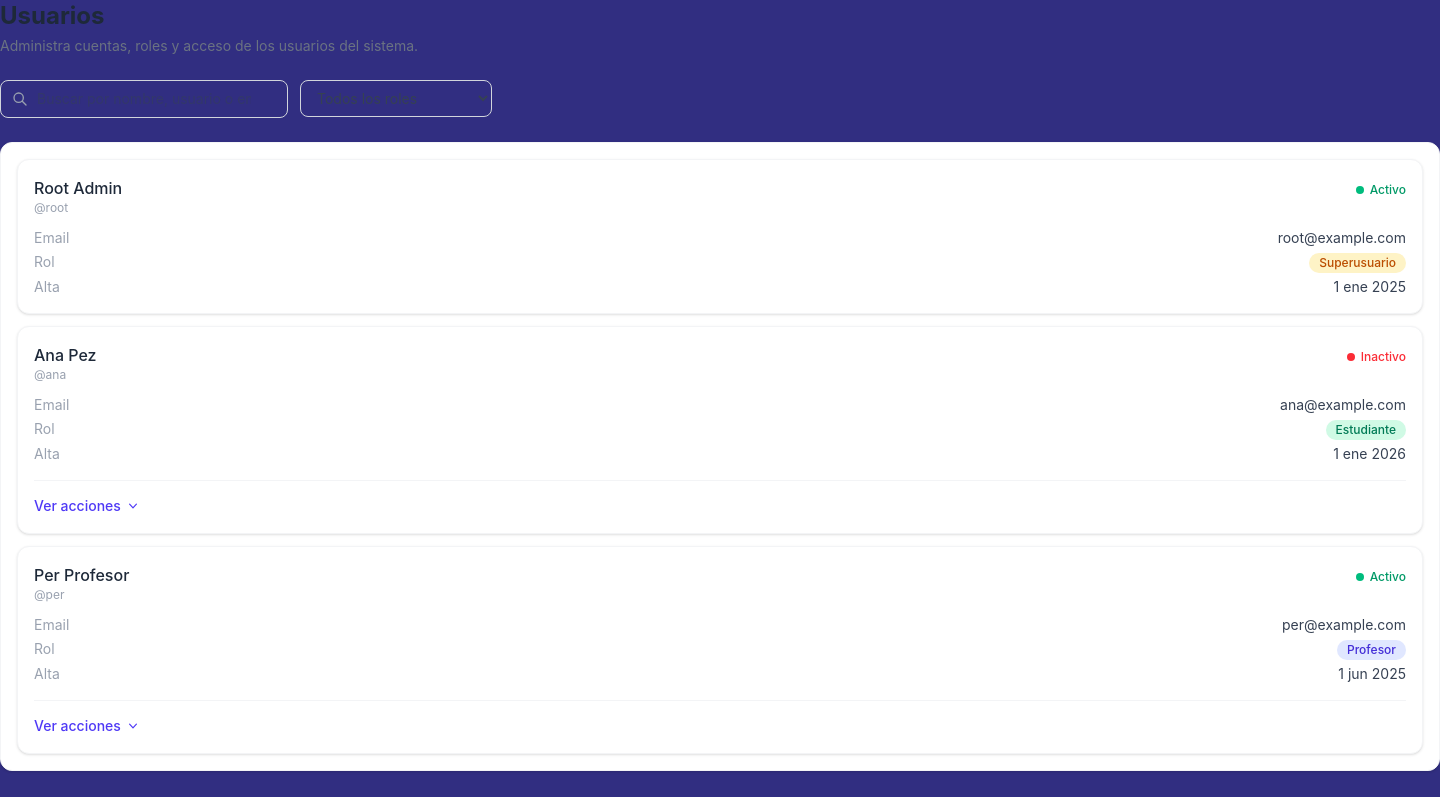
Test case: AdminUsersPage › no impersona al pulsar el toggle de acciones (móvil)
Click the button "Ver acciones" below "Ana Pez" at [87, 506], box left=34, top=496, right=141, bottom=516
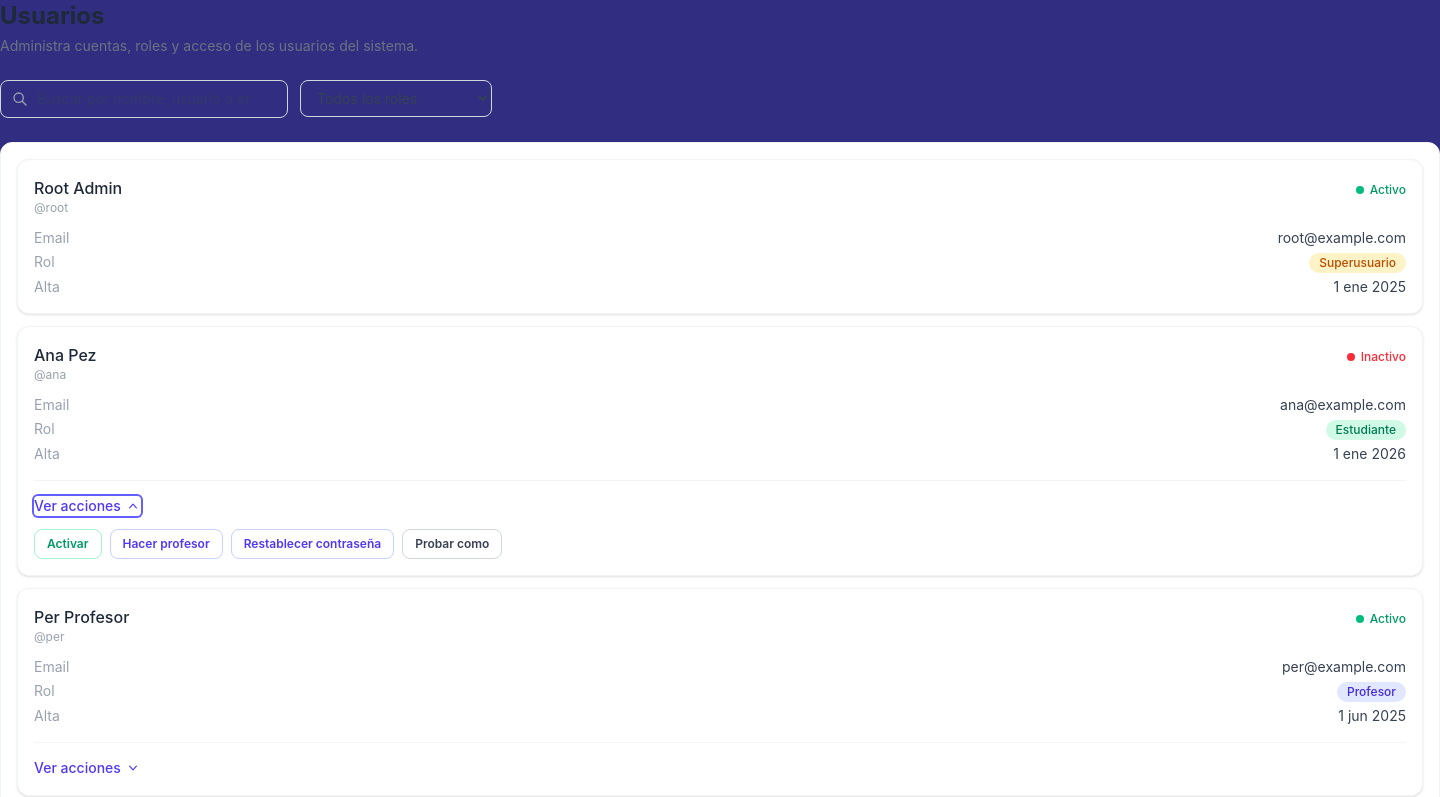
Check: the button "Ver acciones" below "Ana Pez" is expanded, box left=34, top=496, right=141, bottom=516
